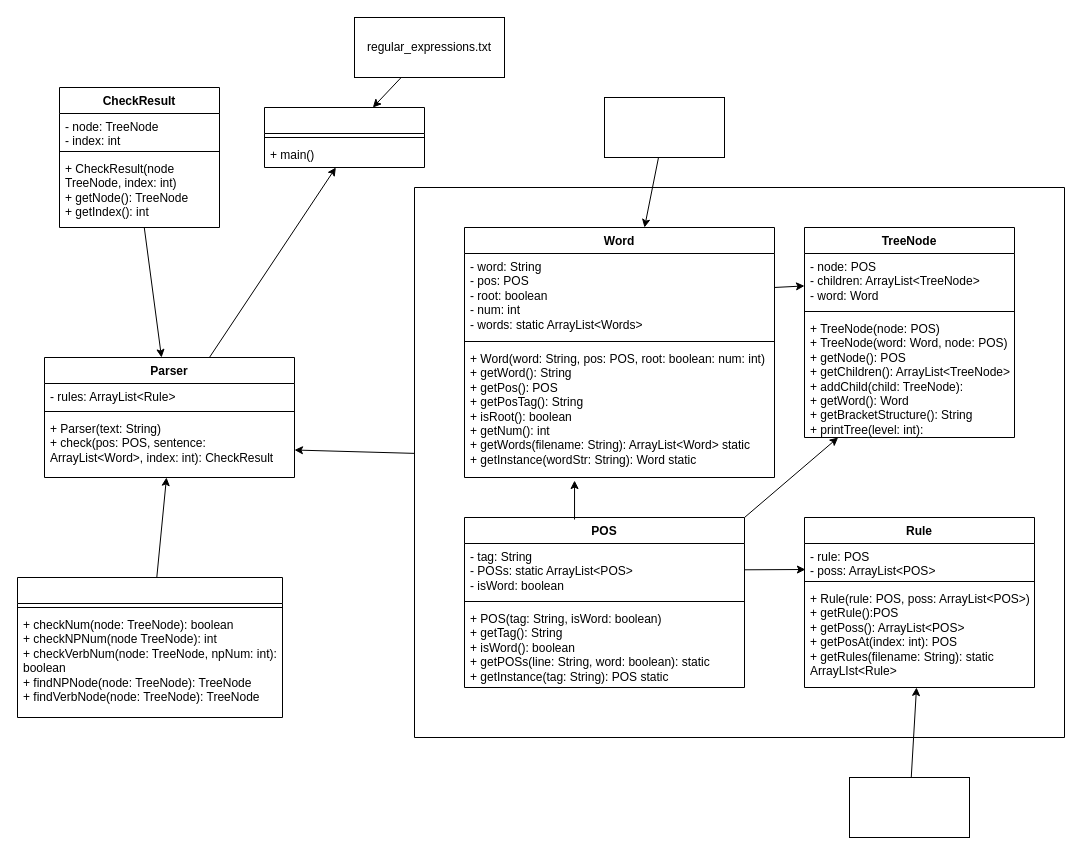
The diagram is 1082 pixels wide and 855 high, and some of its shapes have lost their labels. Each missing label, with the box of its shape:
lexicon.txt: (604, 96, 724, 158)
NumChecker: (16, 576, 282, 718)
rules.txt: (848, 776, 970, 838)
Test: (264, 106, 424, 168)
